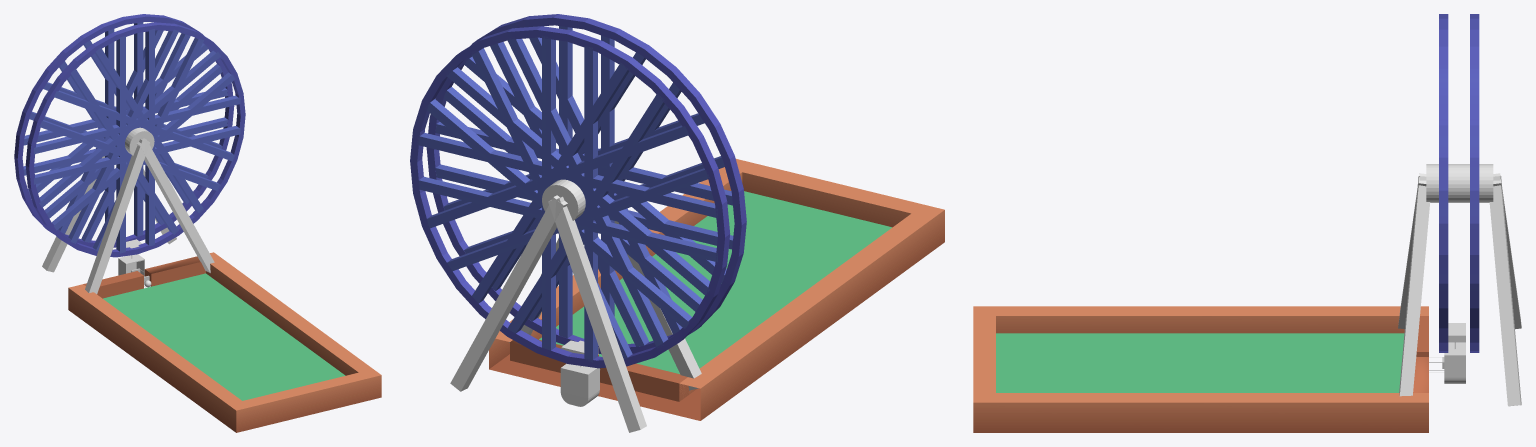
The model's file is course4.glb.
3 renders of one model, left to right at view 1: azimuth 30°, elevation 25°; view 2: azimuth 150°, elevation 25°; view 3: azimuth 270°, elevation 25°, orthographic. The views are drawn at different scales.
Visible parts, largest first — view 1: wheel-noimp, walls-col, floor-col, supports-noimp, front-walls-RIGHT-col, front-walls-col, cabin-noimp; view 2: wheel-noimp, walls-col, floor-col, supports-noimp, front-walls-col, cabin-noimp, front-walls-RIGHT-col; view 3: walls-col, floor-col, supports-noimp, wheel-noimp, cabin-noimp, front-walls-RIGHT-col.
Part boxes in pixels (bbox=[...]): wheel-noimp: bbox=[14, 14, 245, 257]; walls-col: bbox=[68, 252, 381, 432]; floor-col: bbox=[103, 273, 345, 400]; supports-noimp: bbox=[42, 127, 214, 293]; front-walls-RIGHT-col: bbox=[144, 256, 205, 286]; front-walls-col: bbox=[83, 271, 143, 298]; cabin-noimp: bbox=[118, 239, 144, 276]; wheel-noimp: bbox=[410, 14, 746, 368]; walls-col: bbox=[489, 159, 944, 420]; floor-col: bbox=[539, 191, 891, 373]; supports-noimp: bbox=[450, 179, 701, 432]; front-walls-col: bbox=[600, 363, 688, 401]; cabin-noimp: bbox=[560, 340, 599, 406]; front-walls-RIGHT-col: bbox=[510, 339, 598, 372]; walls-col: bbox=[973, 306, 1428, 432]; floor-col: bbox=[996, 333, 1404, 392]; supports-noimp: bbox=[1398, 164, 1521, 406]; wheel-noimp: bbox=[1439, 14, 1479, 352]; cabin-noimp: bbox=[1444, 323, 1465, 383]; front-walls-RIGHT-col: bbox=[1413, 357, 1428, 392].
Size of the model in its own units: 1.49 by 1.72 by 2.41.
Materials: 7 (4 with a texture image).
